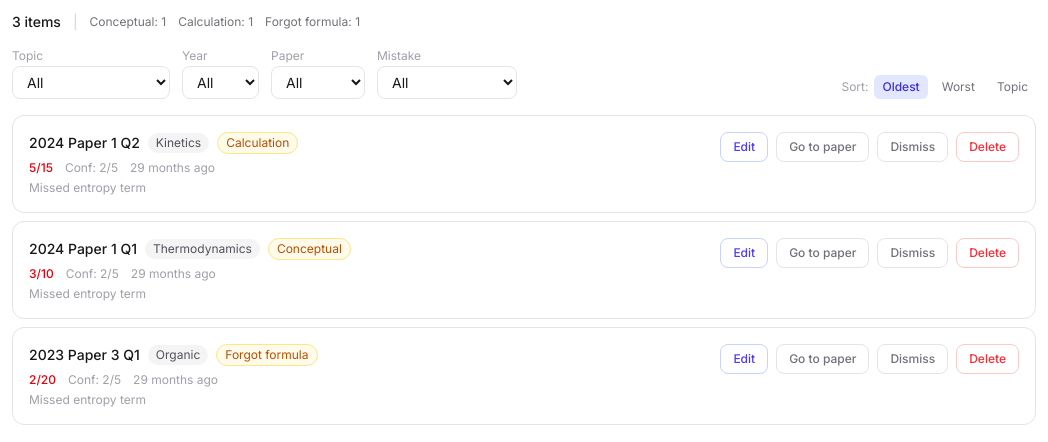
Test case: ReviewClient › filters by topic
Select "Kinetics" in the dropdown labelled "Topic" at (91, 82), box x1=12 y1=66 x2=170 y2=99
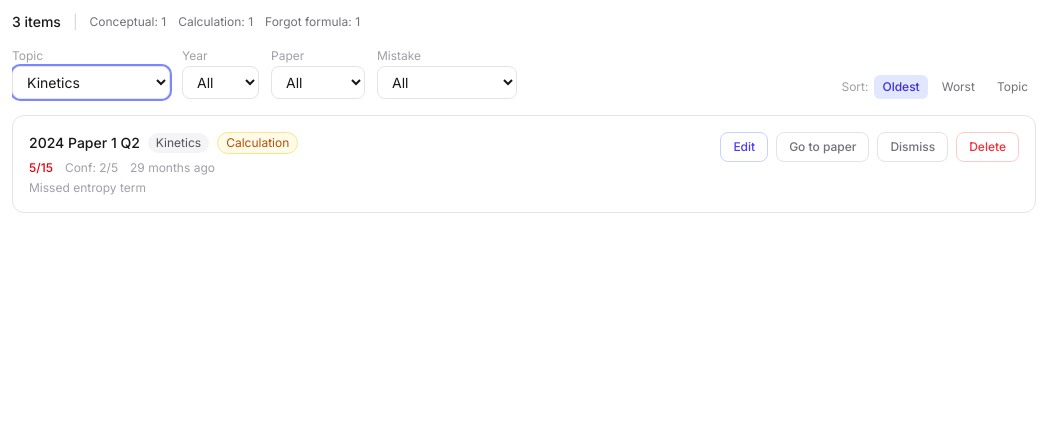
expect the number of buttons "Dismiss" is 1: met, box x1=877 y1=132 x2=948 y2=162
